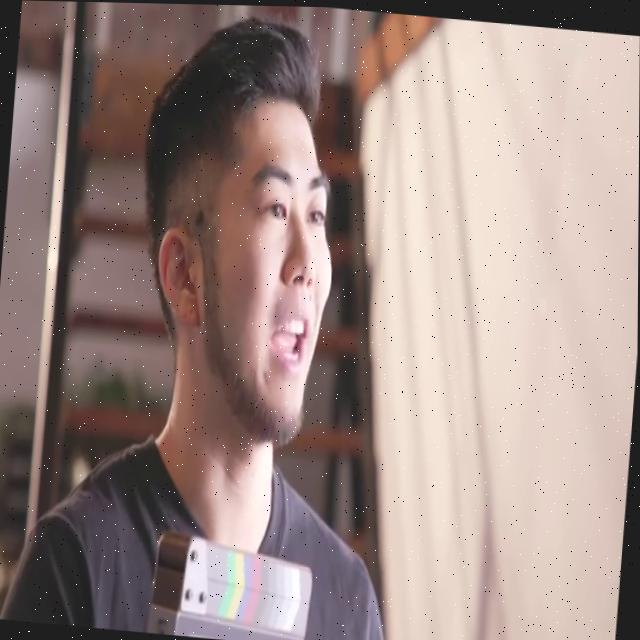Clapperboard: (144, 524, 319, 640)
